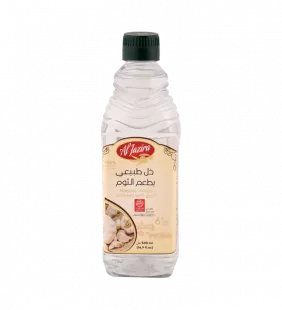Promotion: (91, 20, 189, 284)
